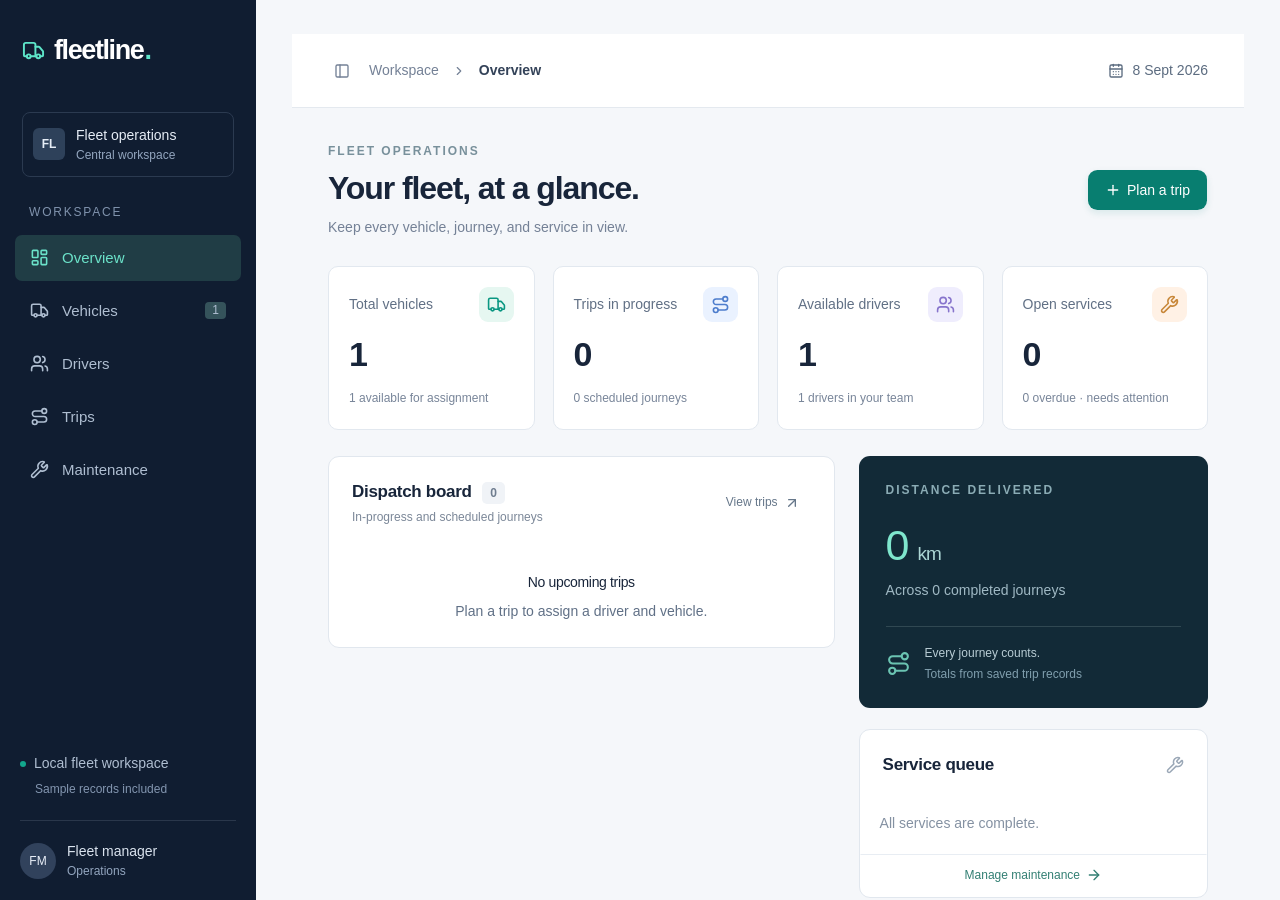
Test: Fleet workflows › retains form input and shows backend validation errors
Expected: the text "1 available for assignment" is shown, [349,391,488,405]
Click the button "Vehicles 1": (128, 310) [15,288,241,334]
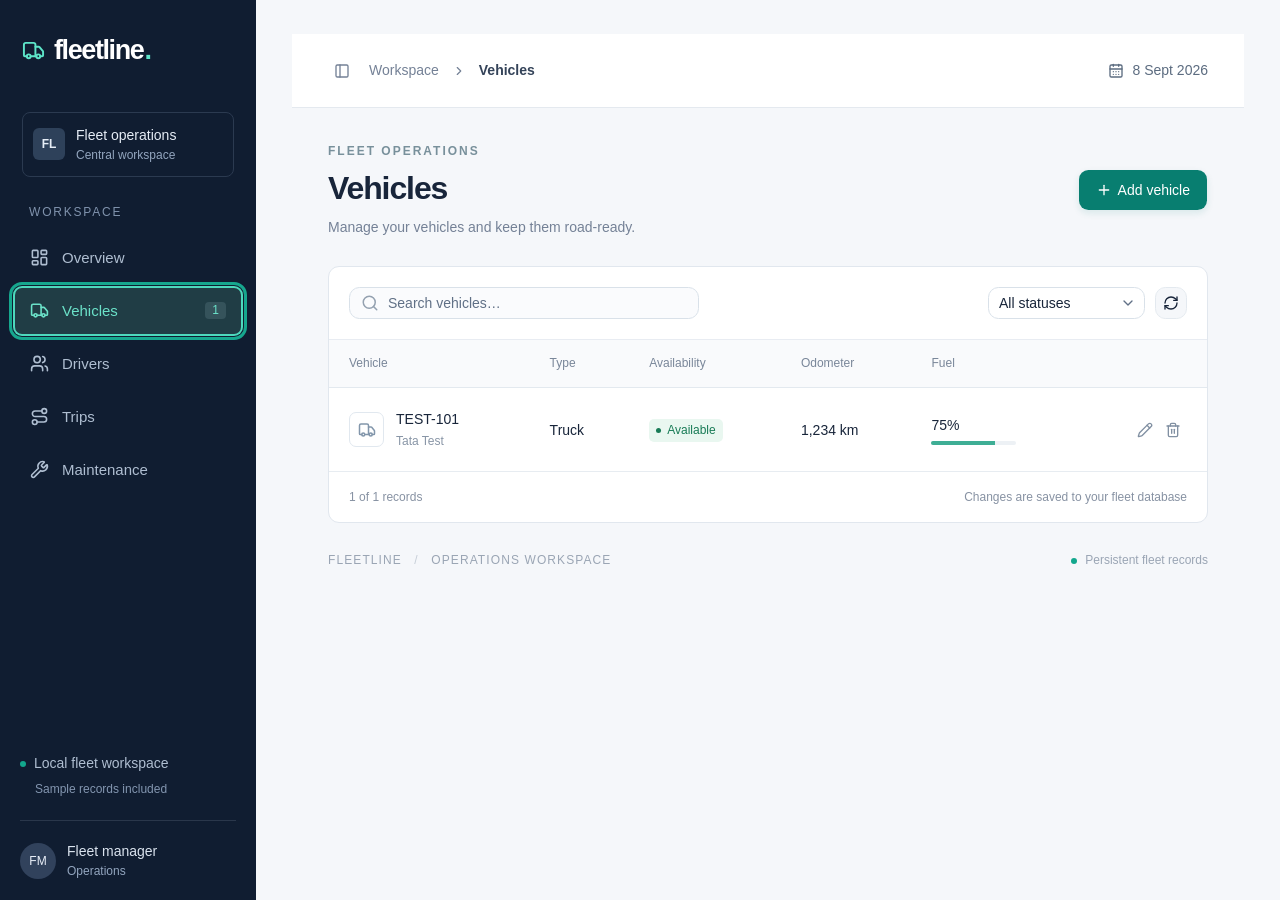
Click the button named "Edit vehicle 1": (1145, 430) [1131,416,1159,444]
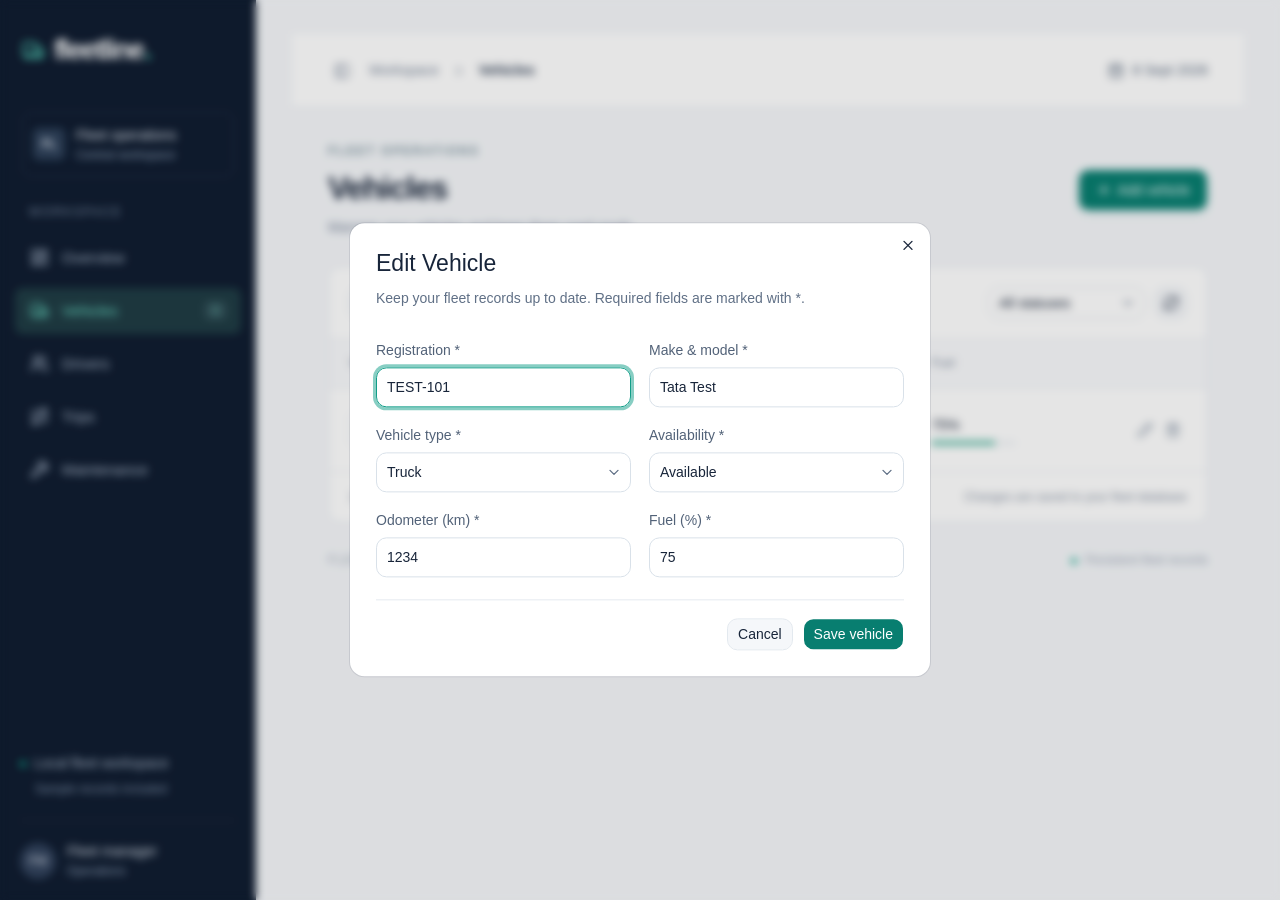
Click the button "Save vehicle": (853, 635) [803,619,904,651]
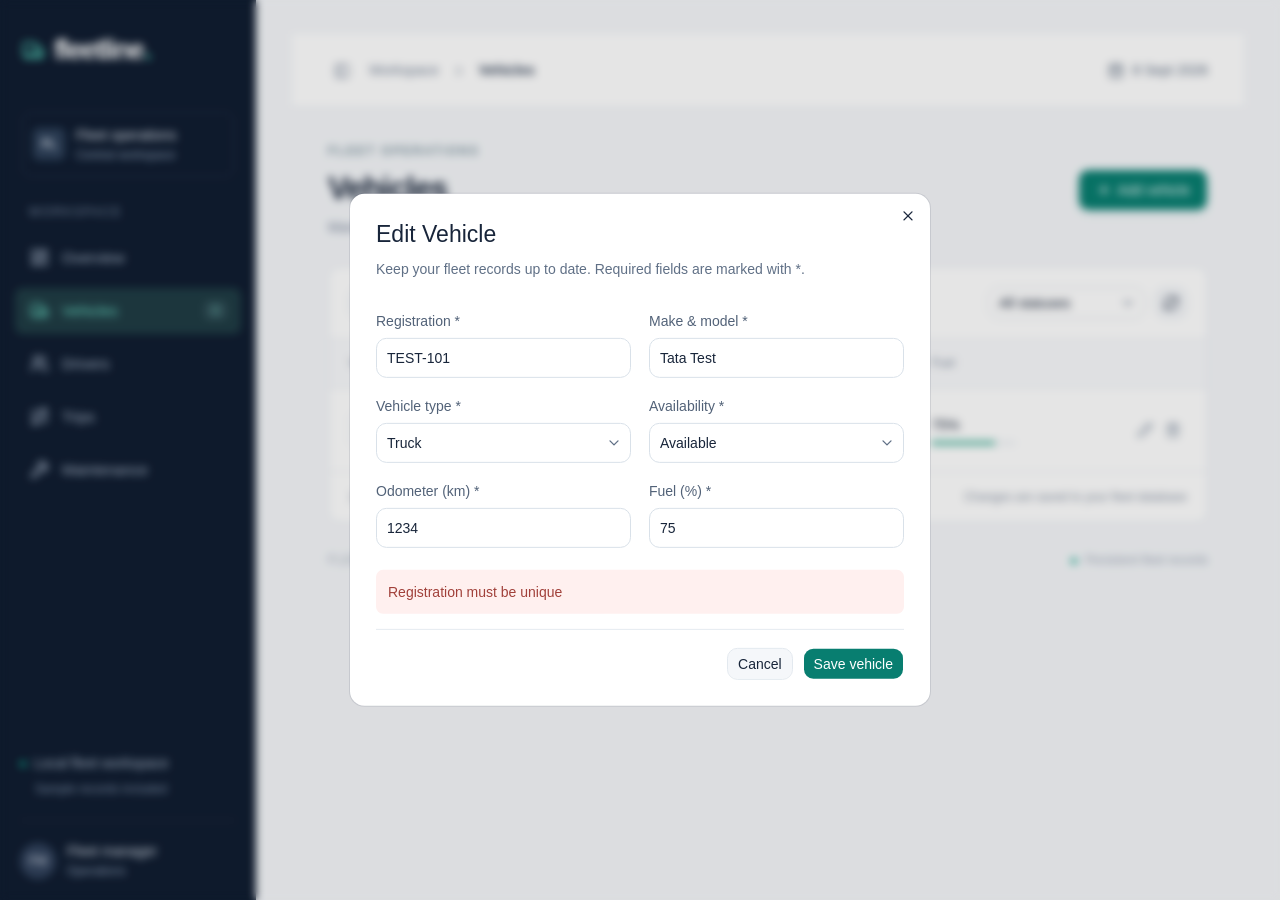
Now the field labelled "Registration *" holds "TEST-101", box [376,338,631,378]
Now the message reads "Registration must be unique", box [388,584,562,600]
